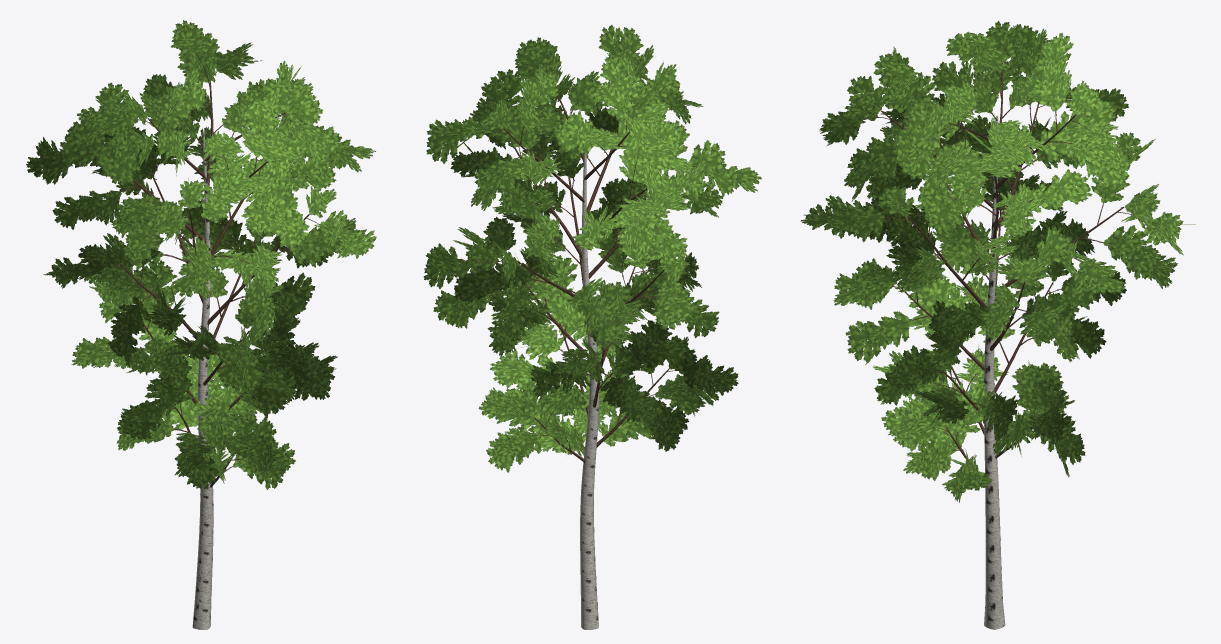
Rendered from birch-tree.glb.
3 views of the same model, side by side, from view 1: azimuth 30°, elevation 25°; view 2: azimuth 150°, elevation 25°; view 3: azimuth 270°, elevation 25° (orthographic). The views are drawn at different scales.
Parts seen in each view (by area): view 1: Leaves, Trunk; view 2: Leaves, Trunk; view 3: Leaves, Trunk.
Part boxes in pixels (bbox=[...]): Leaves: bbox=[26, 20, 376, 489]; Trunk: bbox=[94, 57, 332, 629]; Leaves: bbox=[423, 25, 761, 472]; Trunk: bbox=[462, 84, 707, 629]; Leaves: bbox=[800, 21, 1195, 502]; Trunk: bbox=[862, 56, 1158, 629].
Size of the model in its own units: 7.6 by 14.5 by 8.96.
Materials: 3 (3 with a texture image).
